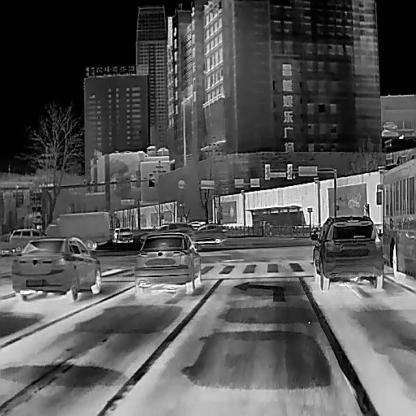car: (10, 235, 101, 302), (310, 214, 385, 291), (375, 156, 416, 281), (133, 230, 201, 293), (45, 210, 112, 250), (140, 221, 195, 246), (8, 227, 47, 253), (195, 222, 227, 241), (0, 232, 16, 253), (116, 226, 133, 242), (112, 227, 120, 242)
